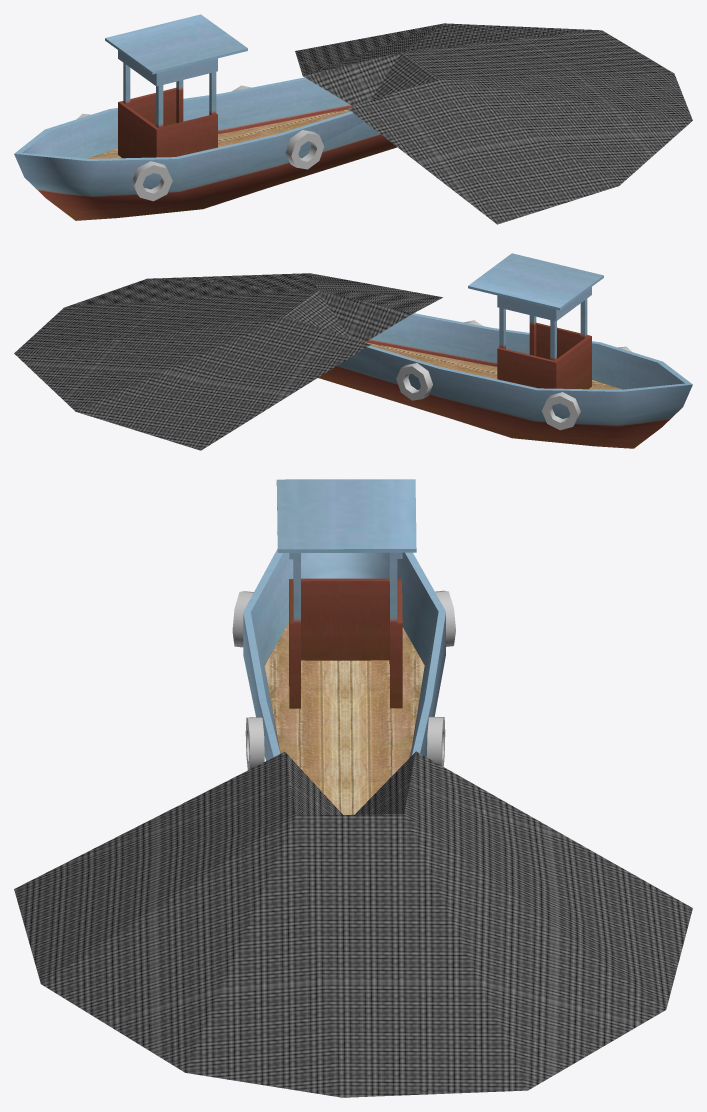
The model's file is taka.FBX.
3 views of the same model, one above another, from view 1: azimuth 30°, elevation 25°; view 2: azimuth 150°, elevation 25°; view 3: azimuth 270°, elevation 25° (orthographic). The views are drawn at different scales.
Parts seen in each view (by area): view 1: net, fishing_boat; view 2: net, fishing_boat; view 3: net, fishing_boat.
Part boxes in pixels (x1=…): net: x1=295, y1=23, x2=692, y2=224; fishing_boat: x1=14, y1=14, x2=396, y2=220; net: x1=14, y1=273, x2=442, y2=450; fishing_boat: x1=318, y1=253, x2=692, y2=448; net: x1=14, y1=751, x2=692, y2=1097; fishing_boat: x1=232, y1=479, x2=455, y2=814.
Size of the model in its own units: 323 by 71.24 by 194.
